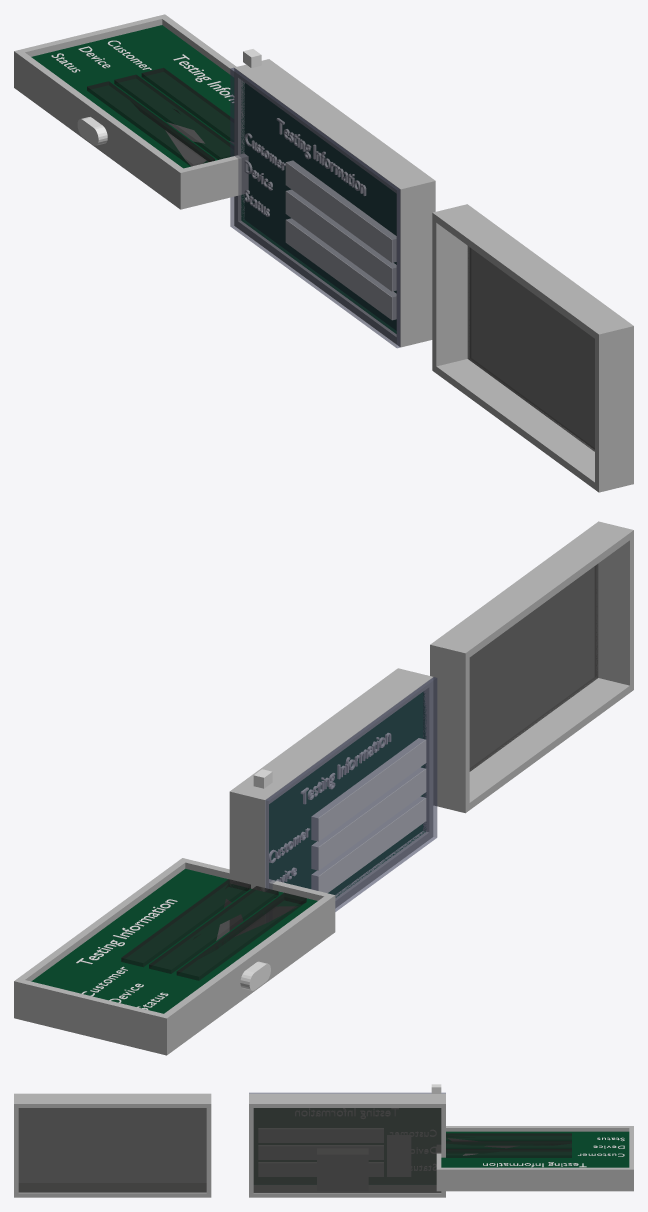
Rendered from LEDSingDisplay_design1.fbx.
3 renders of one model, top to bottom at view 1: azimuth 30°, elevation 25°; view 2: azimuth 150°, elevation 25°; view 3: azimuth 270°, elevation 25°, orthographic. The views are drawn at different scales.
Parts seen in each view (by area): view 1: Plane.007, Plane.009, Plane.011, Plane.005, Plane.010, Plane.015, Plane.003, Plane.014, Plane, Plane.001, Plane.002, Text; view 2: Plane.007, Plane.009, Plane.011, Plane.015, Plane.010, Plane.005, Plane.014, Plane.003, Plane, Plane.001, Plane.002, Text; view 3: Plane.010, Plane.008, Plane.011, Plane.015, Plane.009, Plane.005, Plane.014, Plane.007, Text.004.
Boxes of the visible parts, left/top/right/bottom form: Plane.007: left=230, top=67, right=400, bottom=348; Plane.009: left=432, top=204, right=633, bottom=492; Plane.011: left=31, top=25, right=233, bottom=168; Plane.005: left=234, top=59, right=435, bottom=347; Plane.010: left=467, top=246, right=594, bottom=451; Plane.015: left=14, top=14, right=248, bottom=209; Plane.003: left=241, top=83, right=396, bottom=333; Plane.014: left=87, top=68, right=233, bottom=166; Plane: left=285, top=160, right=396, bottom=262; Plane.001: left=285, top=190, right=396, bottom=291; Plane.002: left=285, top=218, right=396, bottom=320; Text: left=277, top=118, right=365, bottom=195; Plane.007: left=265, top=677, right=437, bottom=911; Plane.009: left=430, top=521, right=633, bottom=813; Plane.011: left=31, top=868, right=317, bottom=1013; Plane.015: left=14, top=858, right=335, bottom=1055; Plane.010: left=469, top=564, right=598, bottom=771; Plane.005: left=229, top=668, right=433, bottom=935; Plane.014: left=121, top=879, right=306, bottom=980; Plane.003: left=269, top=692, right=425, bottom=897; Plane: left=311, top=738, right=426, bottom=841; Plane.001: left=311, top=767, right=426, bottom=870; Plane.002: left=311, top=796, right=426, bottom=892; Text: left=301, top=733, right=390, bottom=803; Plane.010: left=18, top=1108, right=206, bottom=1192; Plane.008: left=253, top=1108, right=441, bottom=1192; Plane.011: left=441, top=1131, right=629, bottom=1167; Plane.015: left=436, top=1126, right=633, bottom=1191; Plane.009: left=14, top=1093, right=211, bottom=1197; Plane.005: left=249, top=1093, right=445, bottom=1197; Plane.014: left=446, top=1133, right=571, bottom=1157; Plane.007: left=249, top=1092, right=445, bottom=1093; Text.004: left=483, top=1162, right=586, bottom=1167.
Size of the model in its own units: 23.33 by 24.5 by 132.
